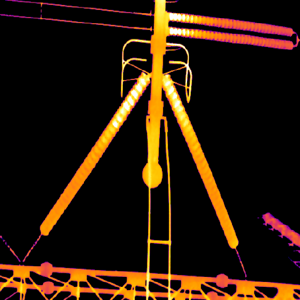insulator: (39, 71, 148, 236), (162, 73, 239, 247), (166, 11, 233, 40)
